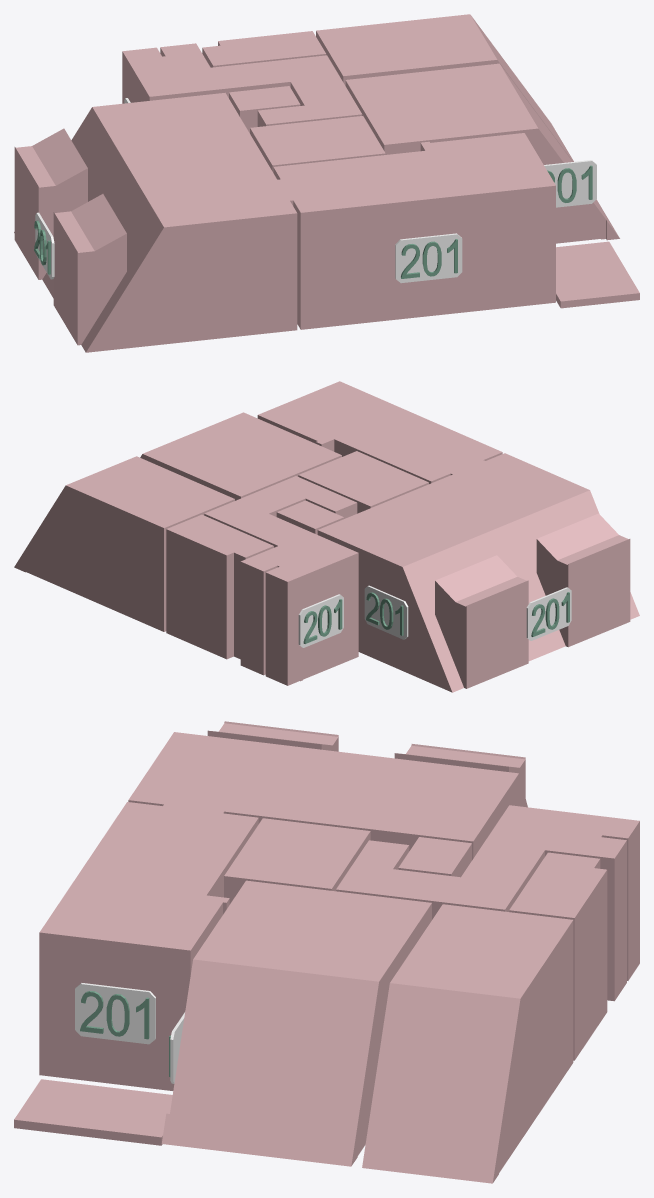
3 renders of one model, top to bottom at view 1: azimuth 30°, elevation 25°; view 2: azimuth 150°, elevation 25°; view 3: azimuth 270°, elevation 25°, orthographic. The views are drawn at different scales.
Visible parts, largest first — view 1: g_0, g_1, g_2, g_5, g_3, g_4, g_8, g_7, g_20, g_6, g_32, g_16; view 2: g_0, g_3, g_5, g_1, g_7, g_2, g_4, g_28, g_12, g_16, g_6; view 3: g_2, g_3, g_1, g_0, g_5, g_7, g_4, g_8, g_24, g_6.
Boxes of the visible parts, x1,y1,x2,y2 form: g_0: (14,92,297,352); g_1: (273,133,555,329); g_2: (345,63,619,243); g_5: (122,43,362,126); g_3: (316,14,573,161); g_4: (250,116,385,172); g_8: (556,241,639,308); g_7: (202,31,326,67); g_20: (395,233,462,283); g_6: (229,86,300,133); g_32: (544,160,596,207); g_16: (35,212,54,279); g_0: (317,453,639,692); g_3: (14,456,234,631); g_5: (204,476,358,685); g_1: (257,381,502,483); g_7: (166,514,273,659); g_2: (140,412,341,500); g_4: (298,451,428,513); g_28: (298,594,343,647); g_12: (364,585,408,639); g_16: (526,587,571,640); g_6: (276,500,343,534); g_2: (161,880,431,1166); g_3: (362,904,573,1183); g_1: (39,802,258,1090); g_0: (128,721,527,860); g_5: (336,805,639,1001); g_7: (509,852,607,1060); g_4: (224,818,370,904); g_8: (14,1079,172,1145); g_24: (75,983,155,1044); g_6: (398,837,471,877).
Bounding box in the file's own units: 13.31 × 2.71 × 10.12.
